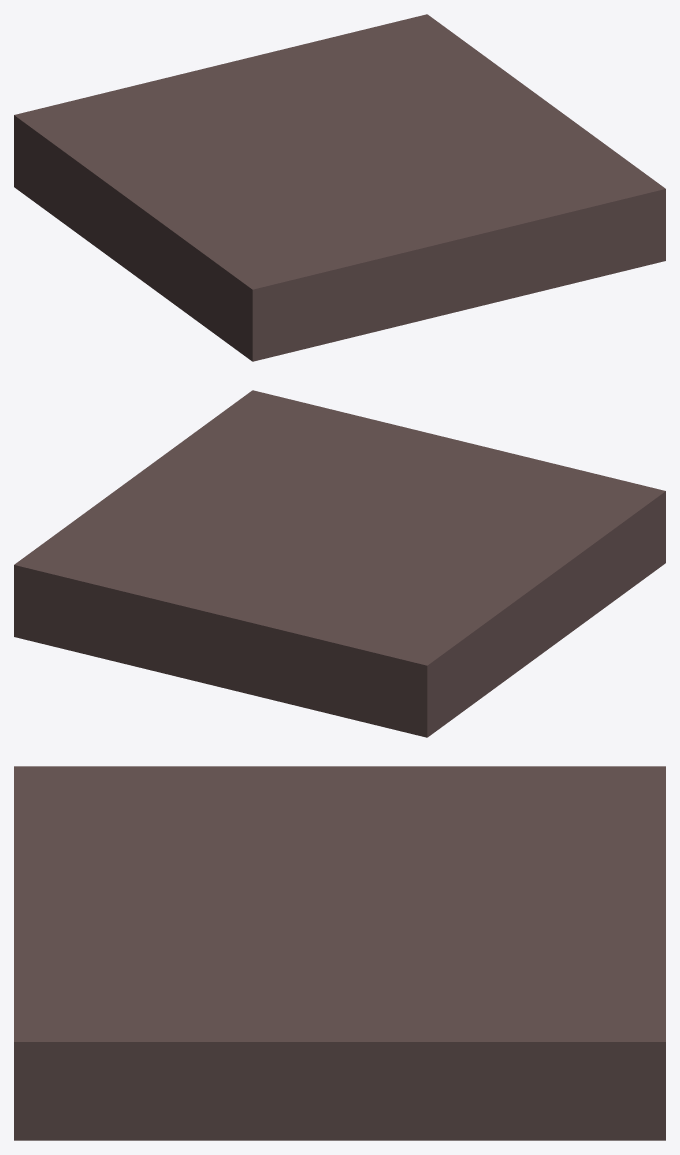
File: floor.fbx
The picture shows the model from 3 angles, top to bottom: view 1: azimuth 30°, elevation 25°; view 2: azimuth 150°, elevation 25°; view 3: azimuth 270°, elevation 25°; orthographic projection. The views are drawn at different scales.
Visible parts, largest first — view 1: Cube; view 2: Cube; view 3: Cube.
Part boxes in pixels (x1,y1,x2,y2): Cube: (14,14,665,361); Cube: (14,390,665,737); Cube: (14,766,665,1140).
Size of the model in its own units: 600 by 100 by 600.
